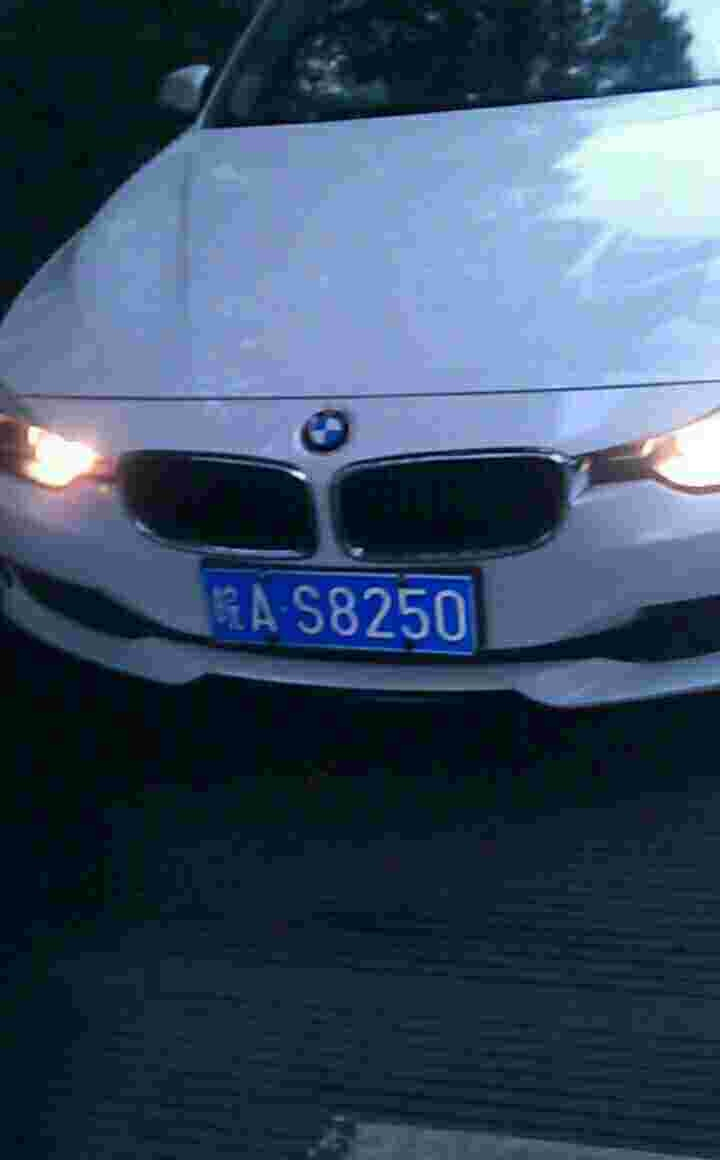license_plate: (186, 557, 473, 665)
